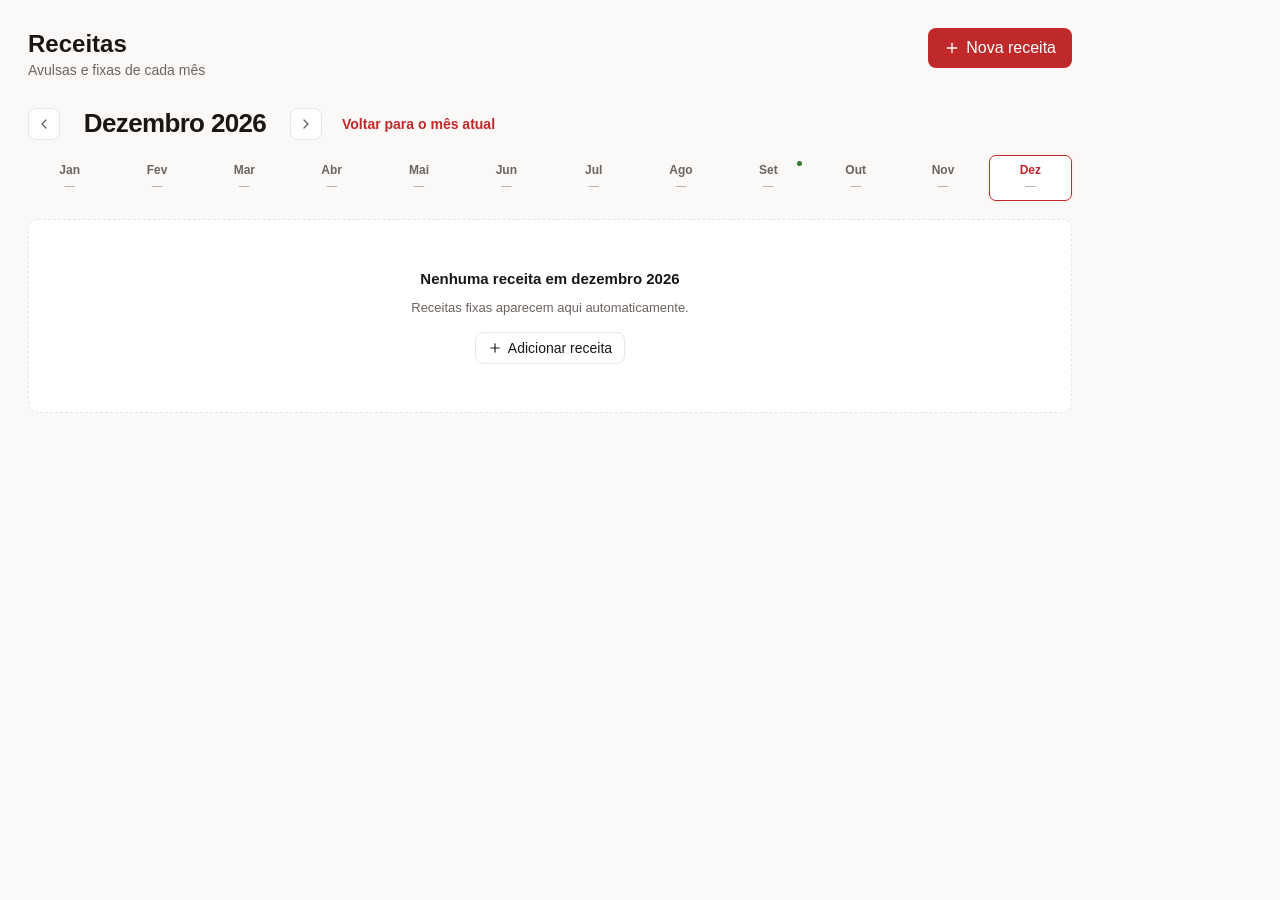
Test case: página de receitas: estado vazio e erro › em mês futuro vazio oferece adicionar receita
The width and height of the screenshot is (1280, 900).
Expected: the text "Receitas fixas aparecem aqui automaticamente." is shown, [411,298,689,318]
Click the button "Adicionar receita" at (550, 348), box [475,332,625,364]
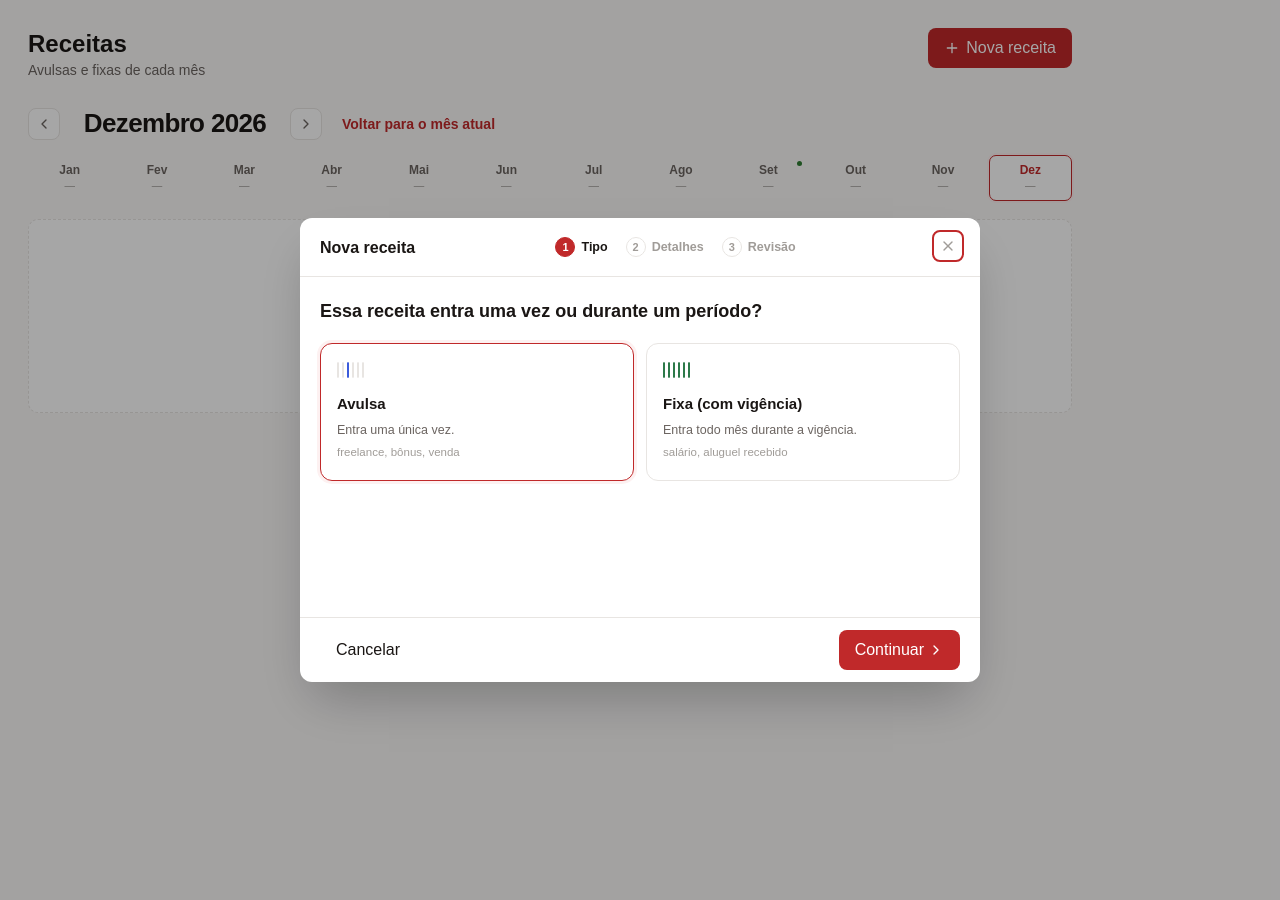
Result: the dialog "Nova receita" is shown at [300,218,980,682]
